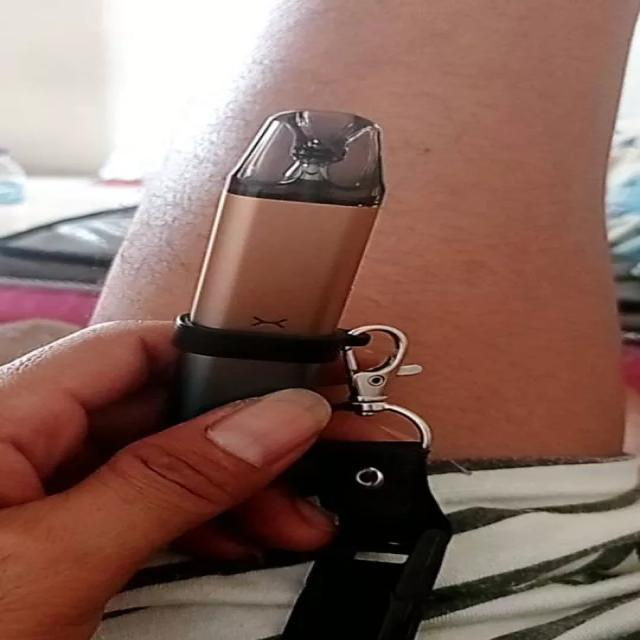Hazard: (166, 108, 385, 427)
